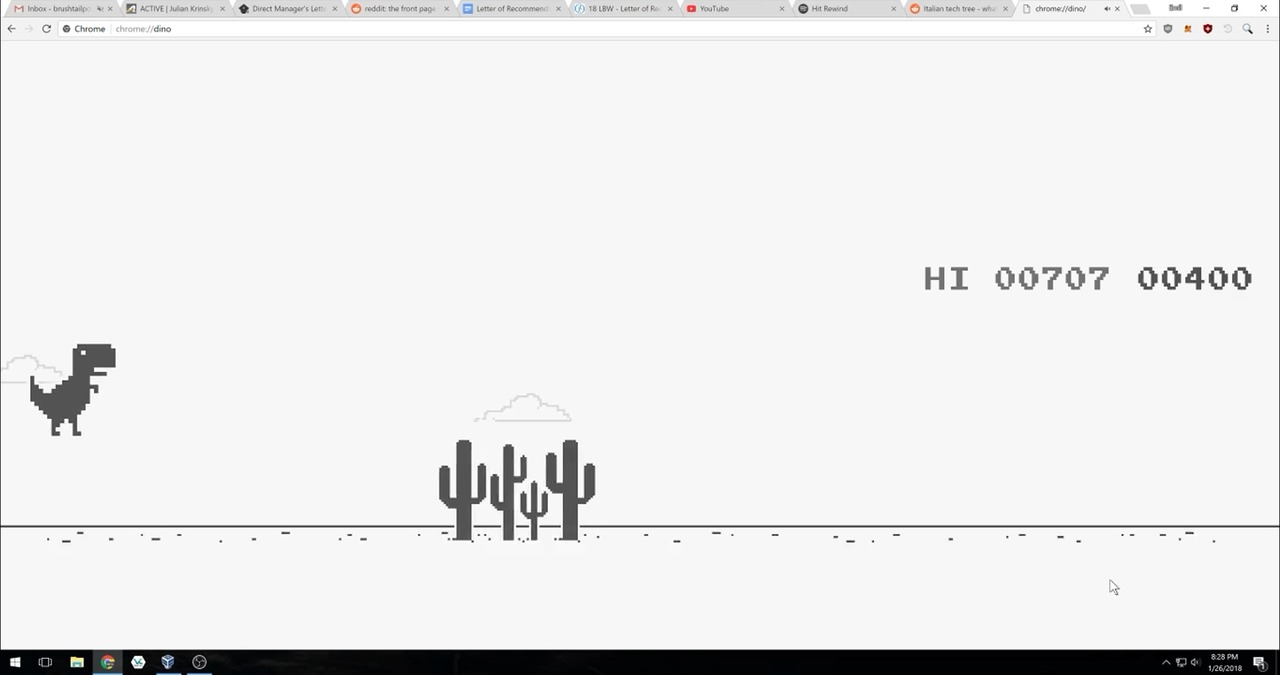cactus: (436, 435, 598, 546)
dinosaur: (28, 338, 120, 437)
